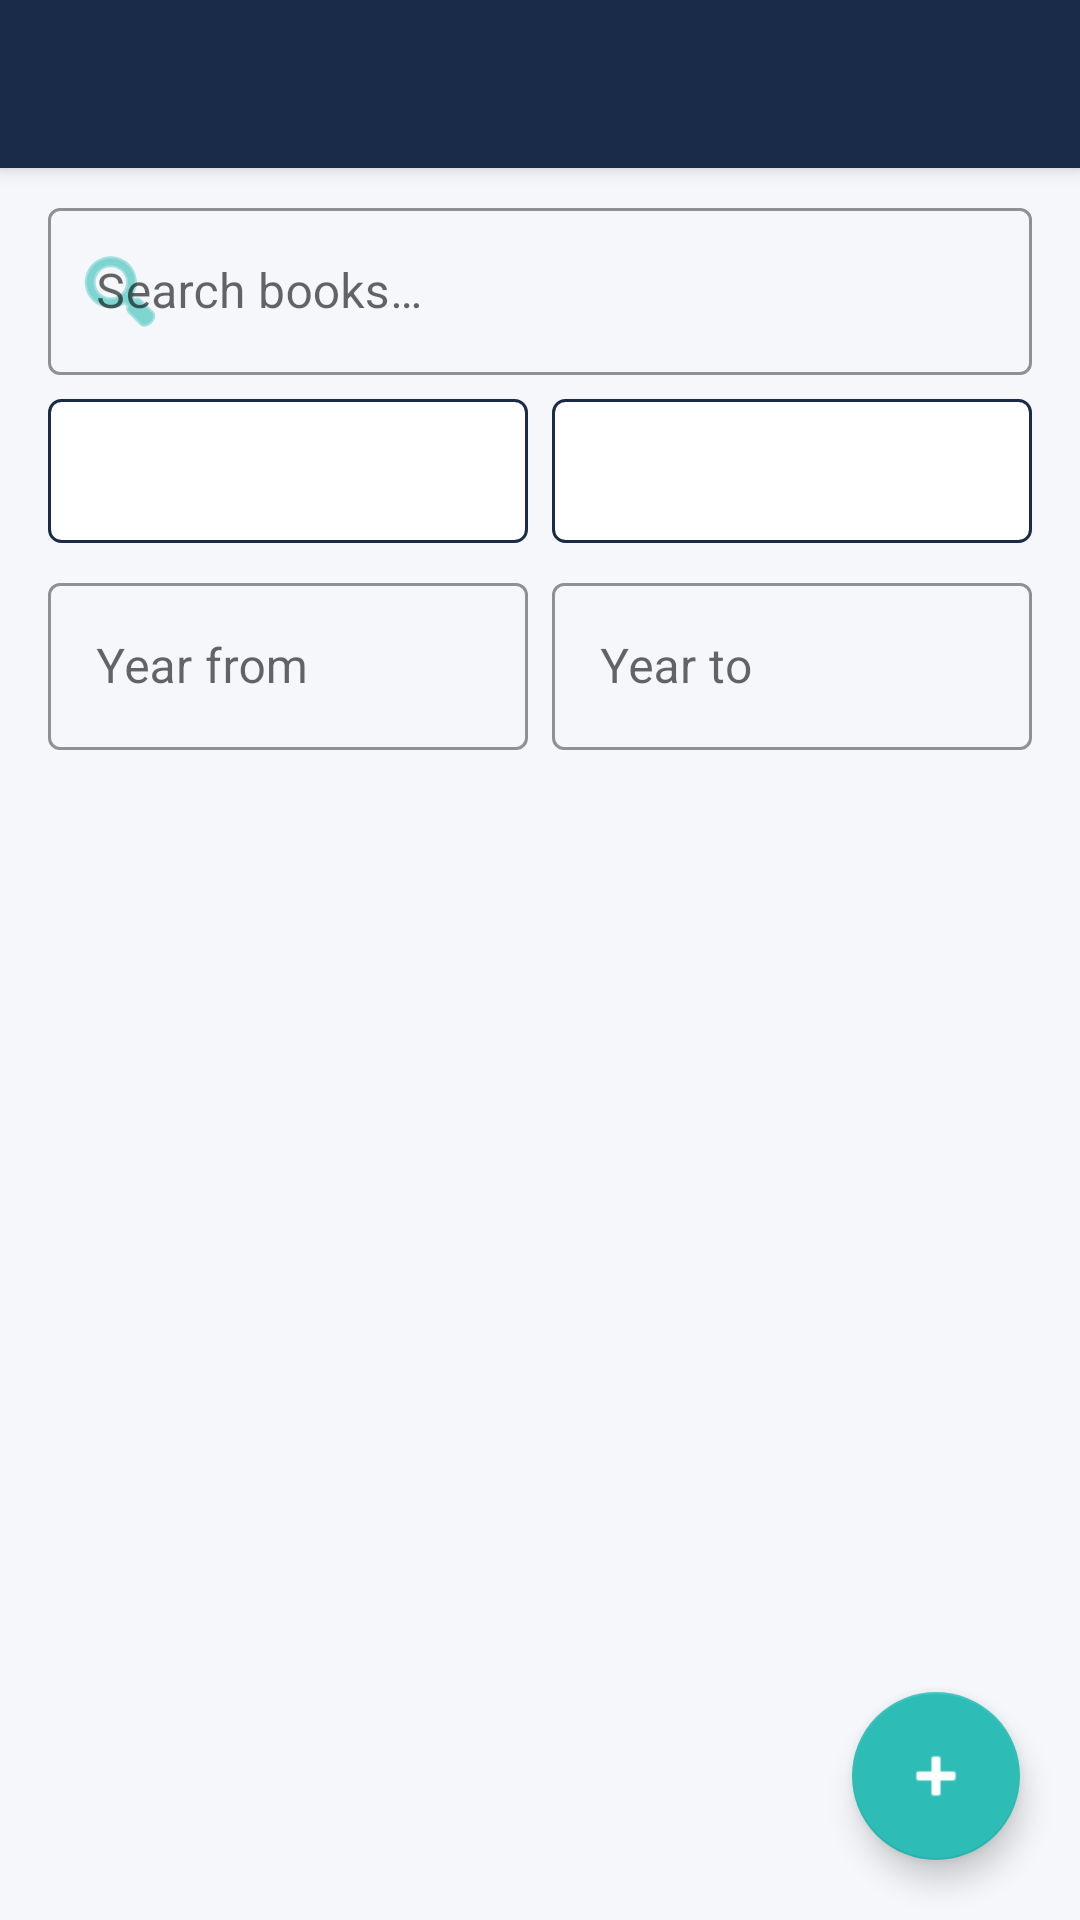

Locate icon controls on the screen. Image size 1080×1920, boxes as (x1, y1, x2, y2).
Add Book: (852, 1692, 1020, 1860)
